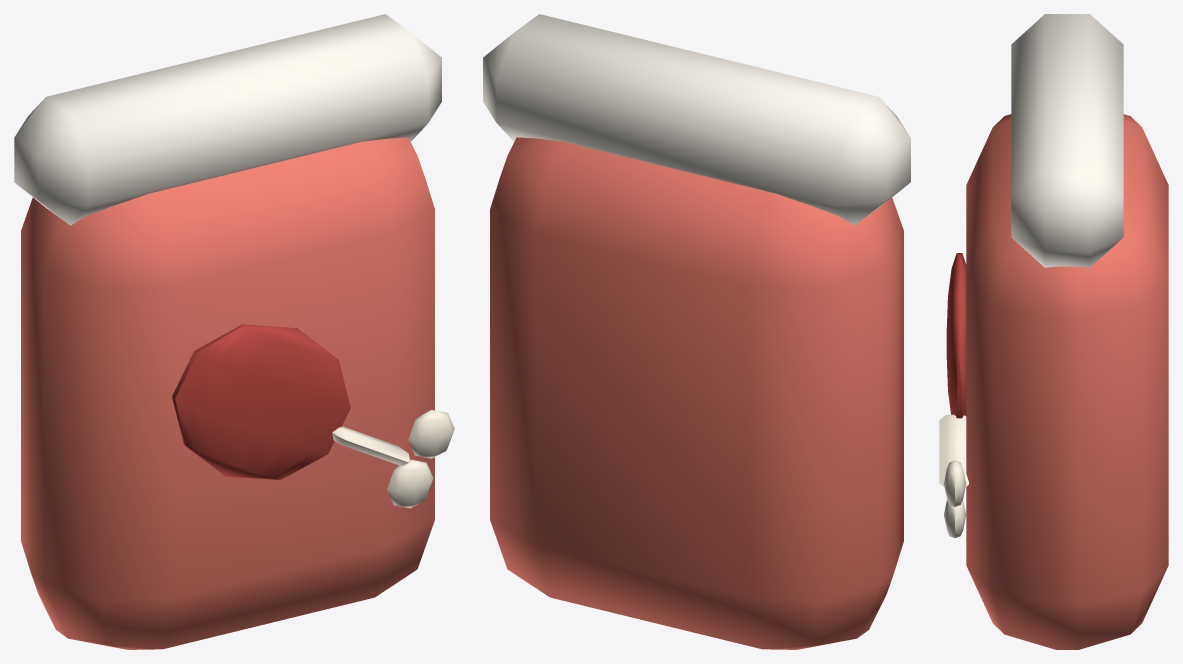
Rendered from item_kibble.glb.
3 views of the same model, side by side, from view 1: azimuth 30°, elevation 25°; view 2: azimuth 150°, elevation 25°; view 3: azimuth 270°, elevation 25° (orthographic). The views are drawn at different scales.
Visible parts, largest first — view 1: item_kibble; view 2: item_kibble; view 3: item_kibble.
Part boxes in pixels (x1=…): item_kibble: x1=14, y1=14, x2=454, y2=649; item_kibble: x1=483, y1=14, x2=910, y2=649; item_kibble: x1=939, y1=14, x2=1168, y2=649.
Bounding box in the file's own units: 0.19 × 0.25 × 0.102.
